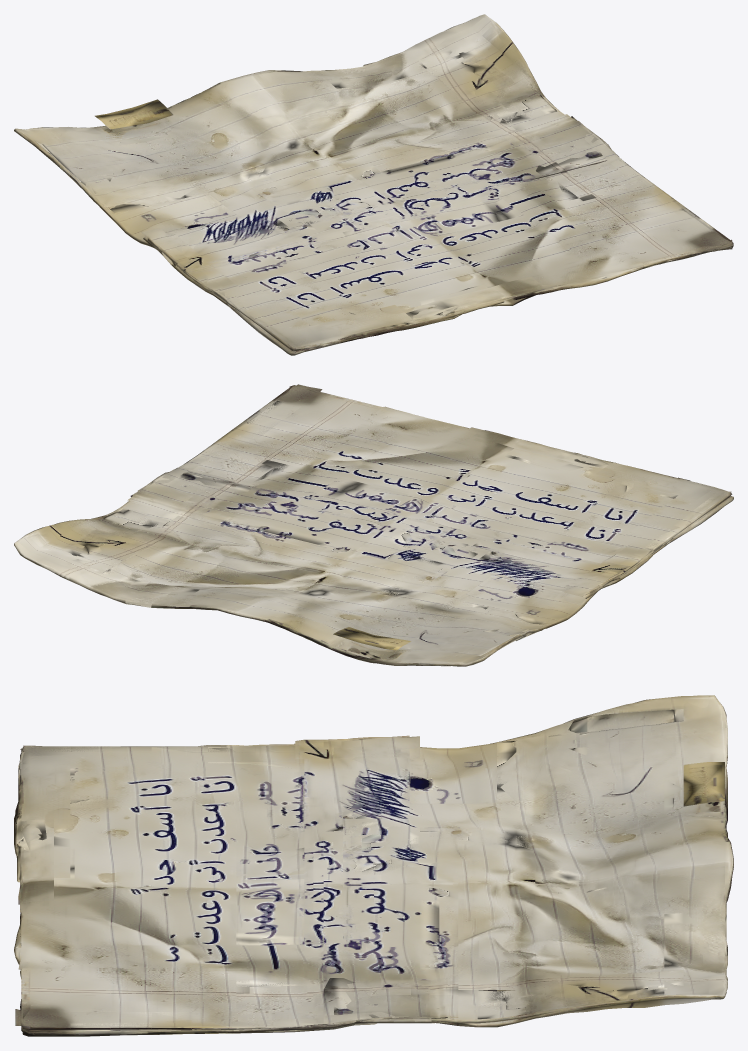
The model's file is Meshy_AI_رسالة_اعتذا_0313130128_texture.fbx.
3 renders of one model, top to bottom at view 1: azimuth 30°, elevation 25°; view 2: azimuth 150°, elevation 25°; view 3: azimuth 270°, elevation 25°, orthographic. The views are drawn at different scales.
Visible parts, largest first — view 1: Mesh_0; view 2: Mesh_0; view 3: Mesh_0.
Boxes of the visible parts, x1=… form: Mesh_0: x1=14, y1=14, x2=733, y2=355; Mesh_0: x1=14, y1=384, x2=733, y2=666; Mesh_0: x1=14, y1=695, x2=733, y2=1036.
Size of the model in its own units: 189 by 16.05 by 190.
Materials: 1 (1 with a texture image).
